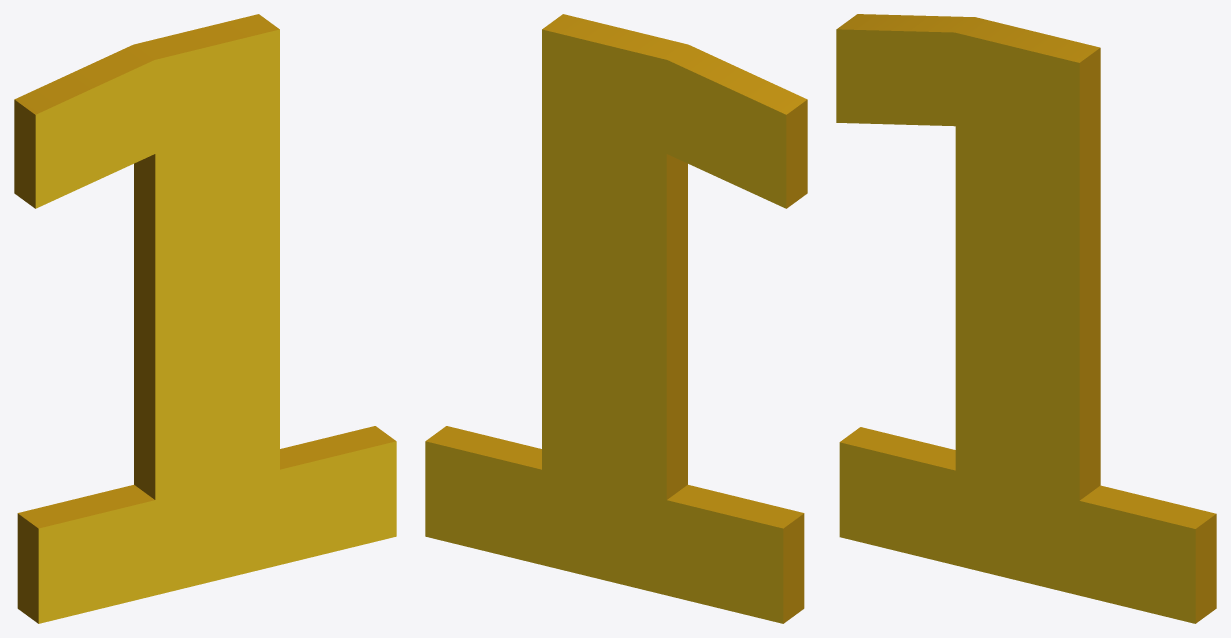
The model's file is Digito1.obj.
The picture shows the model from 3 angles, left to right: view 1: azimuth 30°, elevation 25°; view 2: azimuth 150°, elevation 25°; view 3: azimuth 330°, elevation 25°; orthographic projection.
Parts seen in each view (by area): view 1: Digito1; view 2: Digito1; view 3: Digito1.
Boxes of the visible parts, box(x1,y1,x2,y2) form: Digito1: box(14, 14, 396, 623); Digito1: box(425, 14, 807, 623); Digito1: box(836, 14, 1216, 623).
Size of the model in its own units: 0.395 by 0.5601 by 0.04.
Materials: 1 (1 with a texture image).
